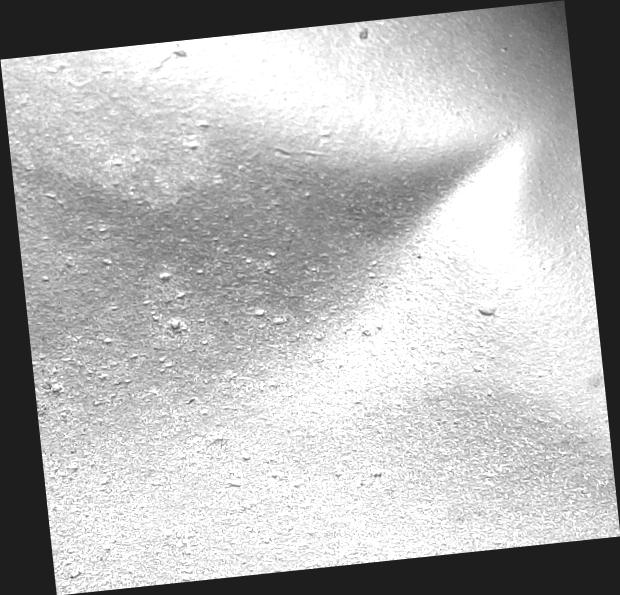dent: (1, 0, 620, 595)
